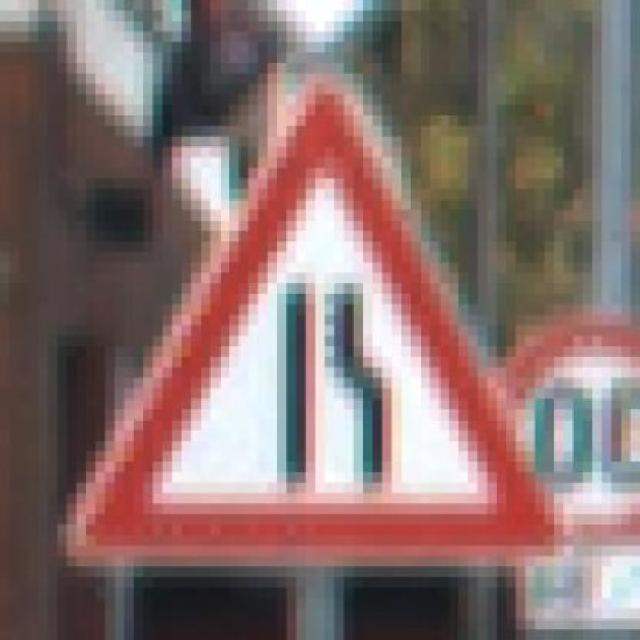-Road narrows on right: (49, 63, 566, 577)
